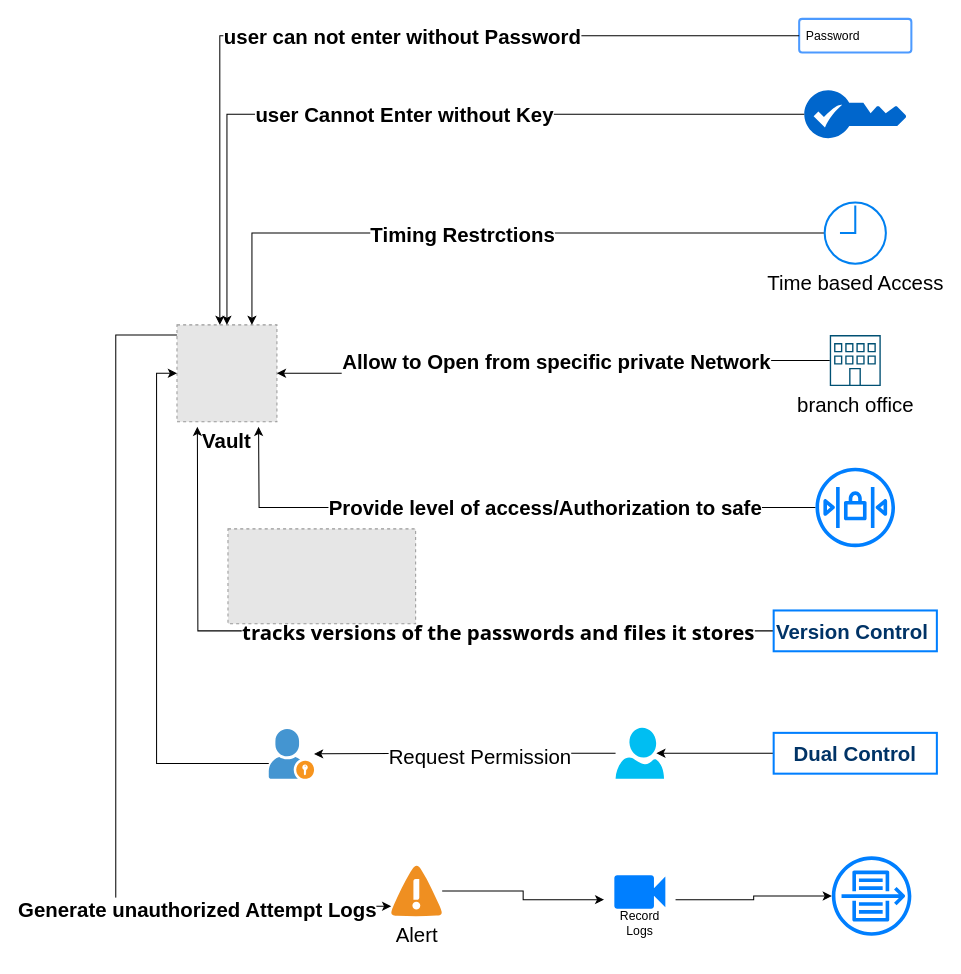
The diagram is 961 pixels wide and 974 high, and some of its shapes have lost their labels. Grey dashed boxes stand in for pictures. The shapes that lost their labels are listed below. From the top down, each one's centre as x and y in pixels, then its label:
At [291,753]: "Admin".
At [639,752]: "user".
At [871,895]: "Logs".
